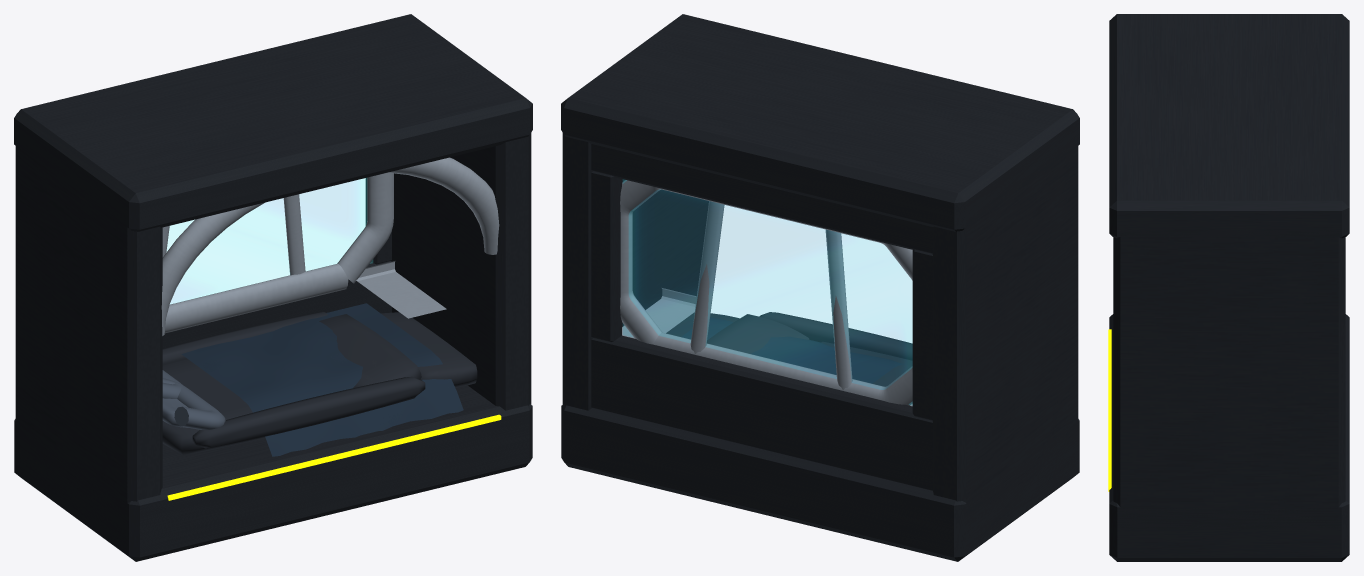
Rendered from bunk_r2_10.glb.
3 views of the same model, side by side, from view 1: azimuth 30°, elevation 25°; view 2: azimuth 150°, elevation 25°; view 3: azimuth 270°, elevation 25° (orthographic). The views are drawn at different scales.
Visible parts, largest first — view 1: BridgeAlcove_GunmetalStateroomHull, BridgeAlcove_TrapezoidalBridgeMullions, BridgeAlcove_TailoredNavyCoverlet, BridgeAlcove_CommandCharcoalCouch, BridgeAlcove_ThreePanelBridgeGlass, BridgeAlcove_DualSlateCradles, BridgeAlcove_PedestalAmberCove; view 2: BridgeAlcove_GunmetalStateroomHull, BridgeAlcove_ThreePanelBridgeGlass, BridgeAlcove_TrapezoidalBridgeMullions, BridgeAlcove_CommandCharcoalCouch, BridgeAlcove_TailoredNavyCoverlet; view 3: BridgeAlcove_GunmetalStateroomHull, BridgeAlcove_PedestalAmberCove.
Boxes of the visible parts, box(x1,y1,x2,y2) form: BridgeAlcove_GunmetalStateroomHull: box(14, 14, 532, 561); BridgeAlcove_TrapezoidalBridgeMullions: box(161, 157, 499, 335); BridgeAlcove_TailoredNavyCoverlet: box(181, 303, 463, 456); BridgeAlcove_CommandCharcoalCouch: box(162, 312, 477, 455); BridgeAlcove_ThreePanelBridgeGlass: box(167, 178, 372, 303); BridgeAlcove_DualSlateCradles: box(162, 370, 225, 429); BridgeAlcove_PedestalAmberCove: box(167, 414, 501, 500); BridgeAlcove_GunmetalStateroomHull: box(561, 14, 1079, 561); BridgeAlcove_ThreePanelBridgeGlass: box(623, 180, 911, 404); BridgeAlcove_TrapezoidalBridgeMullions: box(620, 180, 912, 406); BridgeAlcove_CommandCharcoalCouch: box(666, 312, 912, 386); BridgeAlcove_TailoredNavyCoverlet: box(681, 317, 904, 383); BridgeAlcove_GunmetalStateroomHull: box(1109, 14, 1349, 561); BridgeAlcove_PedestalAmberCove: box(1108, 329, 1111, 491).
Size of the model in its own units: 2.28 by 1.99 by 1.2.
Materials: 9 (9 with a texture image).
